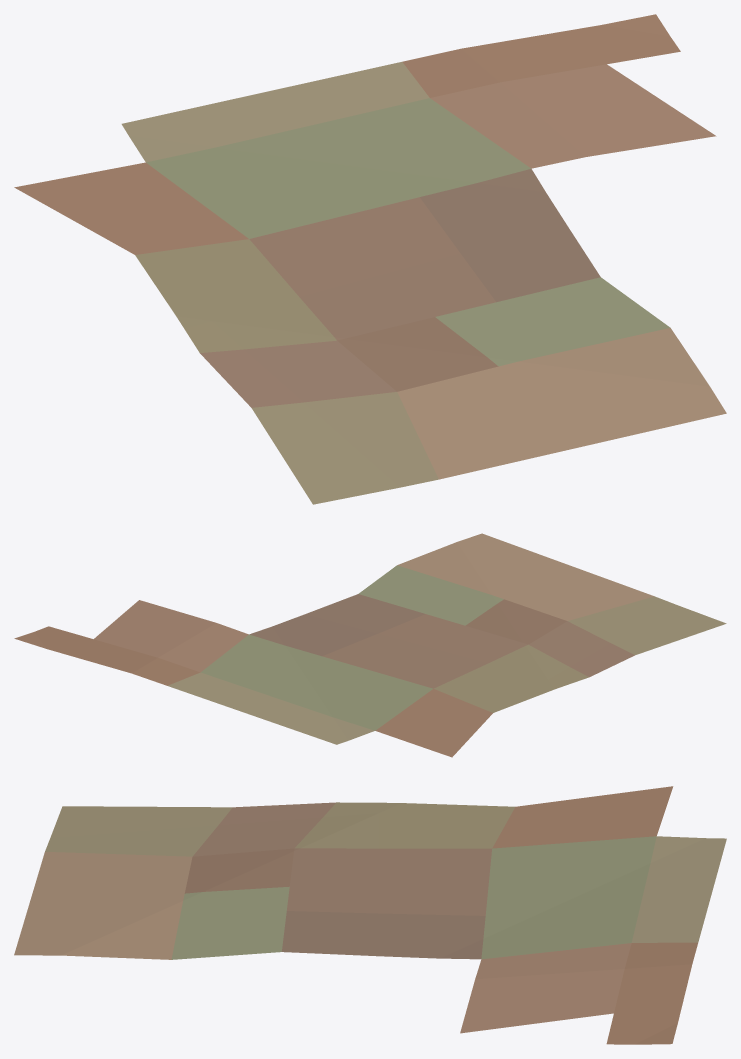
Rendered from farm_10_7_soil.glb.
3 renders of one model, top to bottom at view 1: azimuth 30°, elevation 25°; view 2: azimuth 150°, elevation 25°; view 3: azimuth 270°, elevation 25°, orthographic. The views are drawn at different scales.
Visible parts, largest first — view 1: geometry_0; view 2: geometry_0; view 3: geometry_0.
Part boxes in pixels (left/top/right/bottom): geometry_0: left=14, top=14, right=726, bottom=504; geometry_0: left=14, top=533, right=726, bottom=757; geometry_0: left=14, top=786, right=726, bottom=1044.
Size of the model in its own units: 129 by 11.97 by 132.
